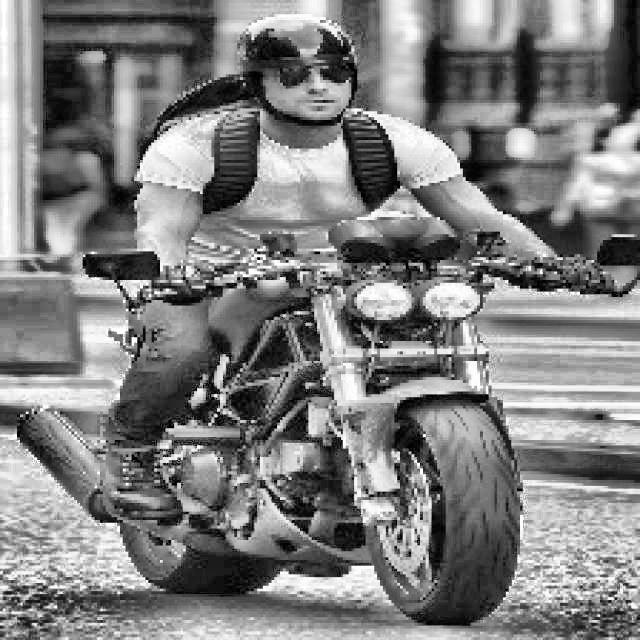motorcycle: (13, 229, 640, 622)
